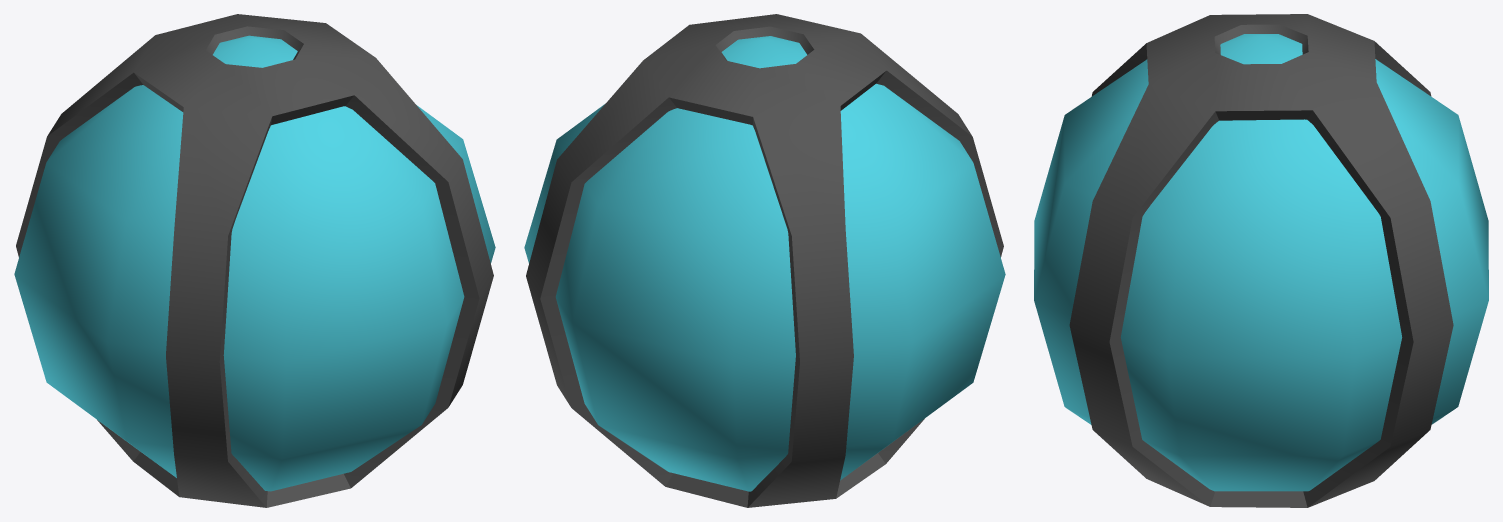
File: lamp_magic_002.fbx
3 views of the same model, side by side, from view 1: azimuth 30°, elevation 25°; view 2: azimuth 150°, elevation 25°; view 3: azimuth 270°, elevation 25° (orthographic).
Visible parts, largest first — view 1: lamp_magic_002; view 2: lamp_magic_002; view 3: lamp_magic_002.
Part boxes in pixels (left/top/right/bottom): lamp_magic_002: left=14, top=14, right=495, bottom=507; lamp_magic_002: left=524, top=14, right=1005, bottom=507; lamp_magic_002: left=1034, top=14, right=1488, bottom=507.
Size of the model in its own units: 47.95 by 47.96 by 52.42.
Materials: 2 (2 with a texture image).
